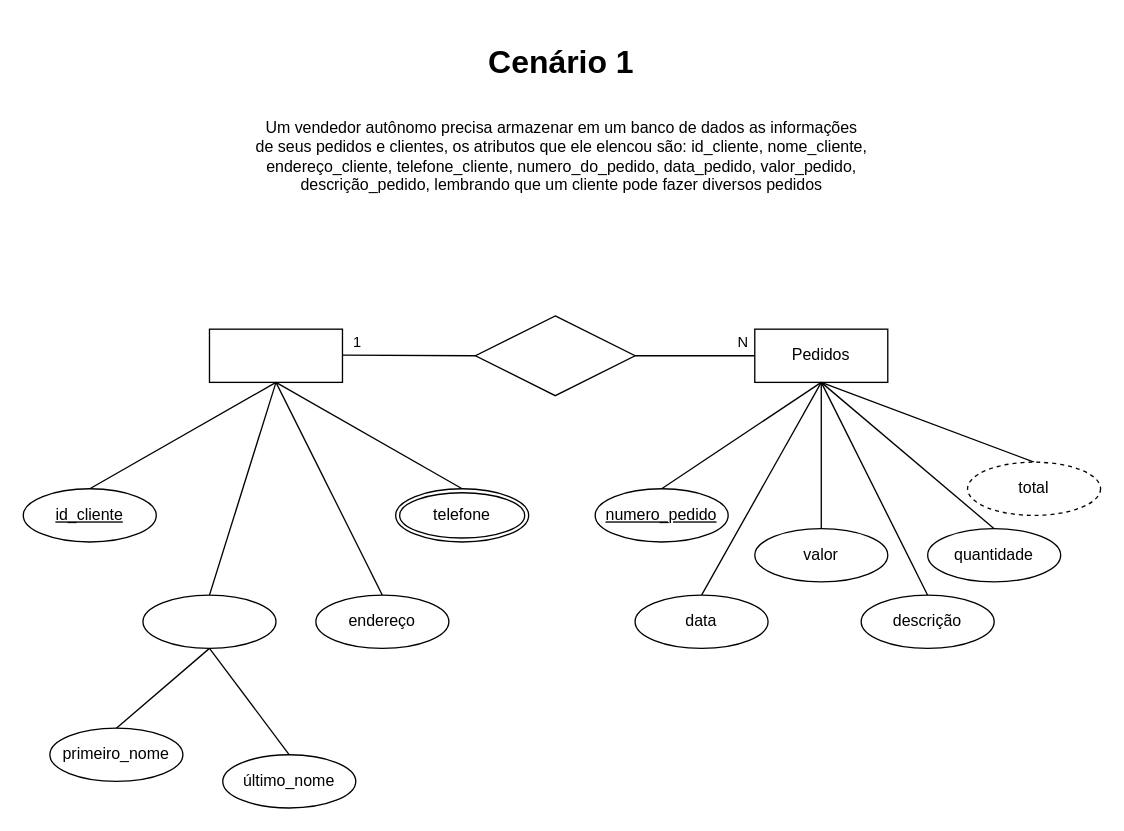
Some shapes in this 1124 by 831 pixel diagram are drawn without their labels. Each missing label, with the box of its shape:
Clientes: (208, 328, 342, 382)
Faz: (474, 315, 635, 396)
nome: (142, 594, 276, 648)
